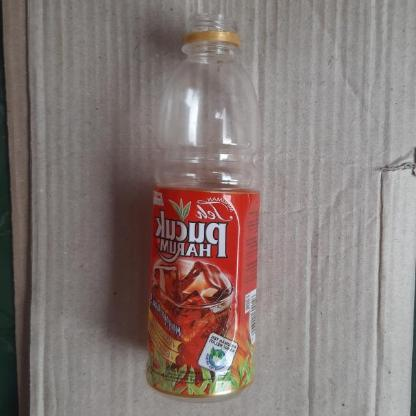Plastic Bottle: (145, 14, 255, 402)
